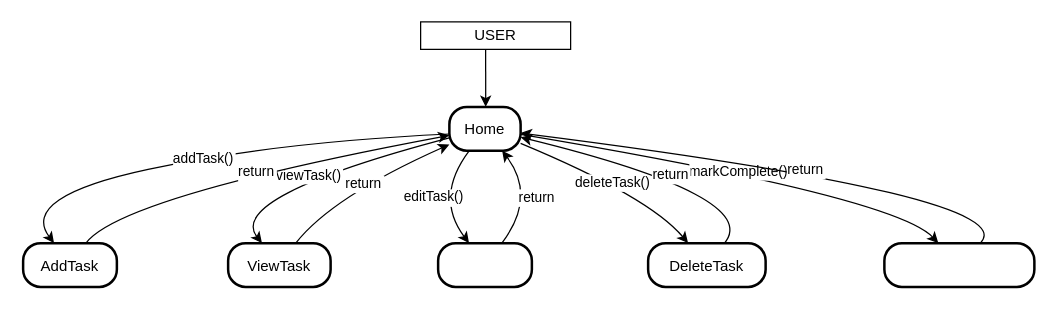
The diagram is 1056 pixels wide and 310 high, and some of its shapes have lost their labels. The centre of each missing label's shape, as x and y in pixels:
"EditTask" goes at (484,264).
"MarkComplete" goes at (958,264).
